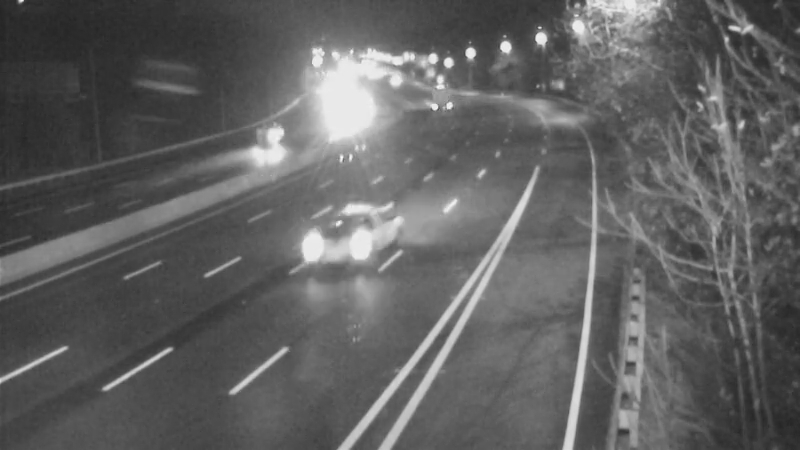vehicle: (304, 196, 384, 276), (408, 68, 458, 118), (245, 115, 295, 165), (318, 96, 368, 146)
